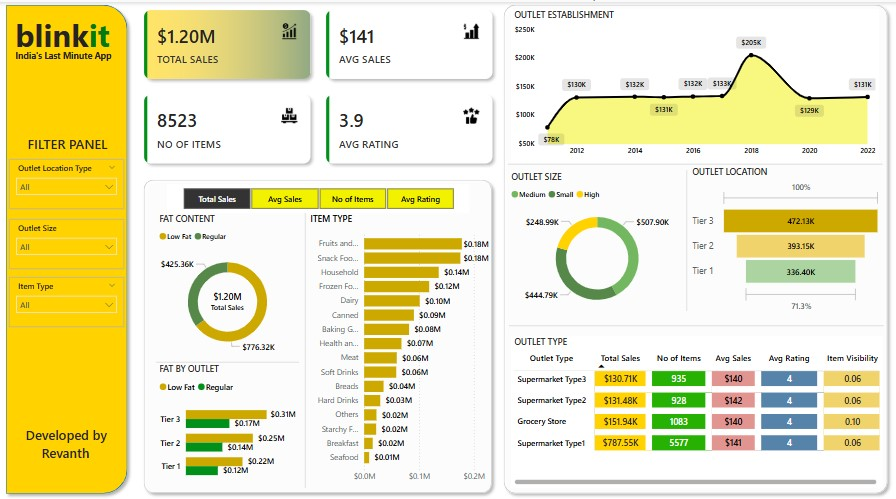

Layout of this report page (visuals, bound fields, positions):
{"tool":"powerbi","page":{"name":"Page 1","canvas":[1400,800],"ordinal":0},"visuals":[{"type":"shape","box":[13.3,13.3,205,770],"z":0},{"type":"textbox","box":[31.7,30,166.7,76.7],"z":1000},{"type":"textbox","box":[25,88.3,173.3,36.7],"z":2000},{"type":"cardVisual","fields":{"Data":["BlinkIT Grocery Data.Total Sales","BlinkIT Grocery Data.Avg Sales","BlinkIT Grocery Data.No of Items","BlinkIT Grocery Data.Avg Rating"]},"box":[218.3,13.3,570,270],"z":3000},{"type":"shape","box":[226.7,283.3,553.3,500],"z":4000},{"type":"donutChart","title":"FAT CONTENT","fields":{"Y":["BlinkIT Grocery Data.Total Sales"],"Category":["BlinkIT Grocery Data.Item Fat Content"]},"box":[253.1,343.8,220.3,229.7],"z":5000},{"type":"slicer","fields":{"Values":["Metrics.Metrics"]},"box":[270,298.3,465,45],"z":6000},{"type":"cardVisual","fields":{"Data":["BlinkIT Grocery Data.Total Sales"]},"box":[276.7,425,173.3,108.3],"z":7000},{"type":"clusteredBarChart","title":"FAT BY OUTLET","fields":{"Y":["BlinkIT Grocery Data.Total Sales"],"Category":["BlinkIT Grocery Data.Outlet Location Type"],"Series":["BlinkIT Grocery Data.Item Fat Content"]},"box":[253.1,573.4,220.3,193.8],"z":8000},{"type":"shape","box":[253.3,556.7,220,31.7],"z":9000},{"type":"shape","box":[465,343.3,38.3,423.3],"z":10000},{"type":"barChart","title":"ITEM TYPE","fields":{"Y":["BlinkIT Grocery Data.Total Sales"],"Category":["BlinkIT Grocery Data.Item Type"]},"box":[486.7,343.3,301.7,423.3],"z":11000},{"type":"shape","box":[780,13.3,608.3,770],"z":12000},{"type":"lineChart","title":"OUTLET ESTABLISHMENT","fields":{"Y":["BlinkIT Grocery Data.Total Sales"],"Category":["BlinkIT Grocery Data.Outlet Establishment Year"]},"box":[800,29.7,565.6,235.9],"z":13000},{"type":"shape","box":[795,251.7,576.7,31.7],"z":14000},{"type":"donutChart","title":"OUTLET SIZE","fields":{"Y":["BlinkIT Grocery Data.Total Sales"],"Category":["BlinkIT Grocery Data.Outlet Size"]},"box":[795.3,278.1,275,225],"z":15000},{"type":"shape","box":[1050,276.6,39.1,217.2],"z":16000},{"type":"funnel","title":"OUTLET LOCATION","fields":{"Y":["BlinkIT Grocery Data.Sales"],"Category":["BlinkIT Grocery Data.Outlet Location Type"]},"box":[1073.4,270.3,300,229.7],"z":17000},{"type":"shape","box":[796.9,500,576.6,32.8],"z":18000},{"type":"pivotTable","title":"OUTLET TYPE","fields":{"Rows":["BlinkIT Grocery Data.Outlet Type"],"Values":["BlinkIT Grocery Data.Total Sales","BlinkIT Grocery Data.No of Items","BlinkIT Grocery Data.Avg Sales","BlinkIT Grocery Data.Avg Rating","BlinkIT Grocery Data.Item Visibility"]},"box":[800,532.8,571.9,234.4],"z":19000},{"type":"slicer","fields":{"Values":["BlinkIT Grocery Data.Outlet Location Type"]},"box":[28.1,259.4,176.6,76.6],"z":20000},{"type":"slicer","fields":{"Values":["BlinkIT Grocery Data.Outlet Size"]},"box":[28.1,351.6,176.6,76.6],"z":21000},{"type":"slicer","fields":{"Values":["BlinkIT Grocery Data.Item Type"]},"box":[28.1,442.2,176.6,76.6],"z":22000},{"type":"shape","title":"FILTER PANEL","box":[31.2,223.4,173.4,28.1],"z":22001},{"type":"shape","title":"Developed by","box":[37.5,670.3,157.8,28.1],"z":22002},{"type":"shape","title":"Revanth","box":[28.1,698.4,173.4,28.1],"z":22003}]}

Visuals, with their boxes in screenshot pixels (x1, y1, x2, y2), scaled from the page's 1400x800 canvas onto the 896x499 screenshot:
shape: 9,8,140,489
textbox: 20,19,127,67
textbox: 16,55,127,78
cardVisual - BlinkIT Grocery Data.Total Sales x BlinkIT Grocery Data.Avg Sales: 140,8,505,177
shape: 145,177,499,489
"FAT CONTENT" donutChart: 162,214,303,358
slicer - Metrics.Metrics: 173,186,470,214
cardVisual - BlinkIT Grocery Data.Total Sales: 177,265,288,333
"FAT BY OUTLET" clusteredBarChart: 162,358,303,479
shape: 162,347,303,367
shape: 298,214,322,478
"ITEM TYPE" barChart: 311,214,505,478
shape: 499,8,889,489
"OUTLET ESTABLISHMENT" lineChart: 512,19,874,166
shape: 509,157,878,177
"OUTLET SIZE" donutChart: 509,173,685,314
shape: 672,173,697,308
"OUTLET LOCATION" funnel: 687,169,879,312
shape: 510,312,879,332
"OUTLET TYPE" pivotTable: 512,332,878,479
slicer - BlinkIT Grocery Data.Outlet Location Type: 18,162,131,210
slicer - BlinkIT Grocery Data.Outlet Size: 18,219,131,267
slicer - BlinkIT Grocery Data.Item Type: 18,276,131,324
"FILTER PANEL" shape: 20,139,131,157
"Developed by" shape: 24,418,125,436
"Revanth" shape: 18,436,129,453
